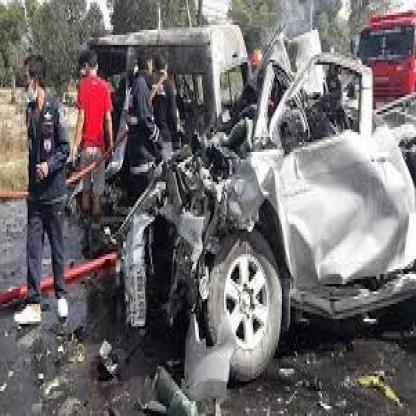accident: (66, 17, 412, 388)
